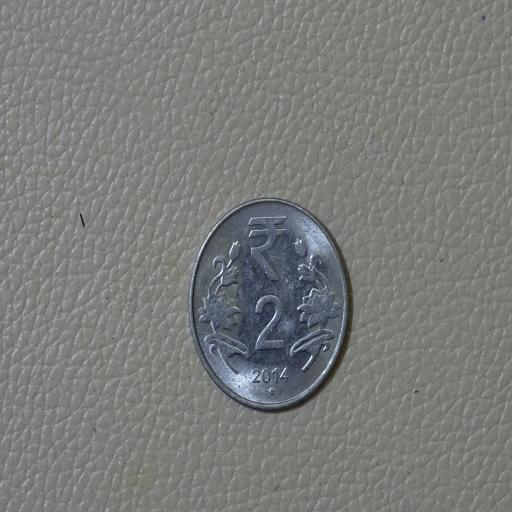rupee2: (184, 197, 350, 414)
